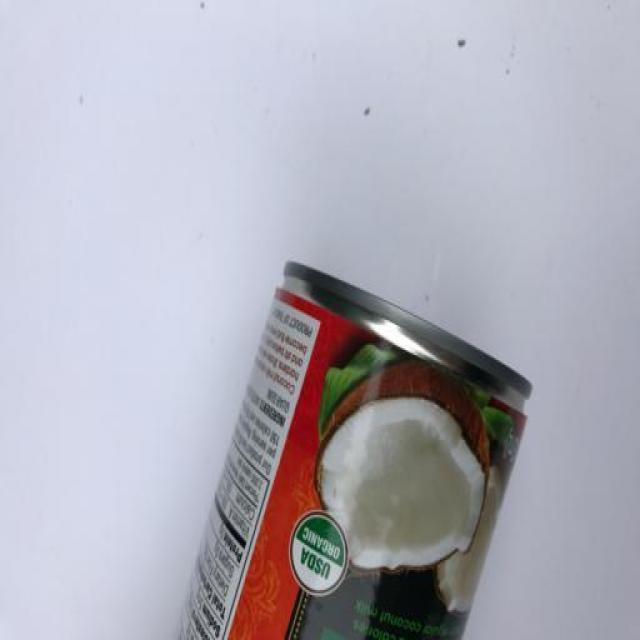metel: (238, 286, 495, 640)
